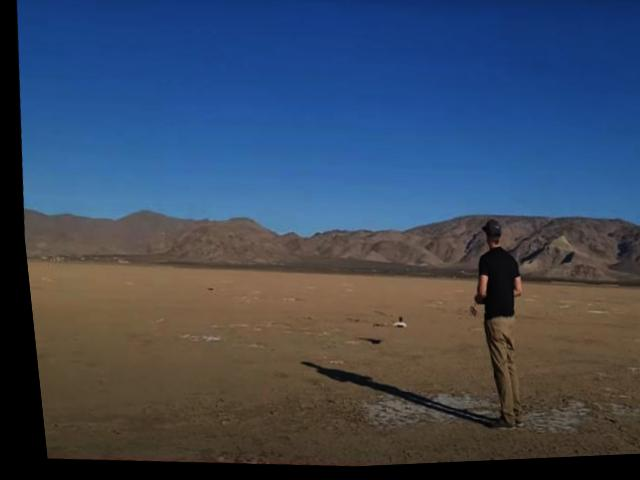iha: (366, 314, 402, 336)
